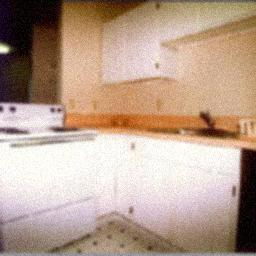Electrodomestico: (1, 106, 96, 247)
Lavaplatos: (150, 103, 240, 143)
